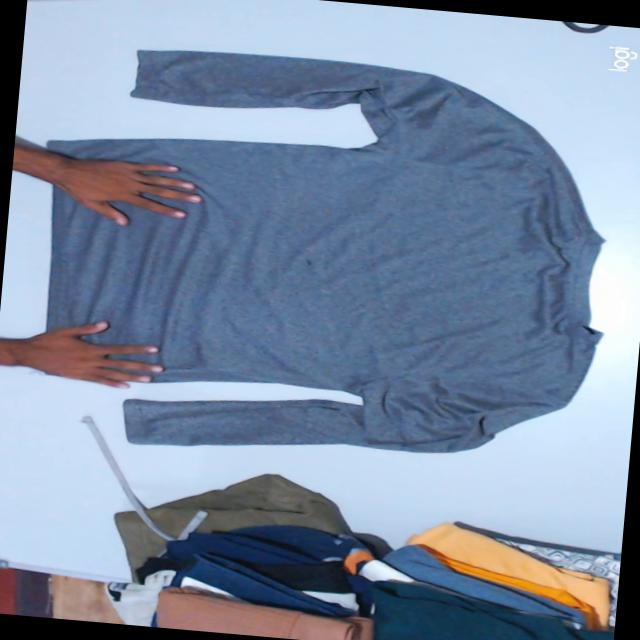new-garment: (48, 49, 600, 451)
